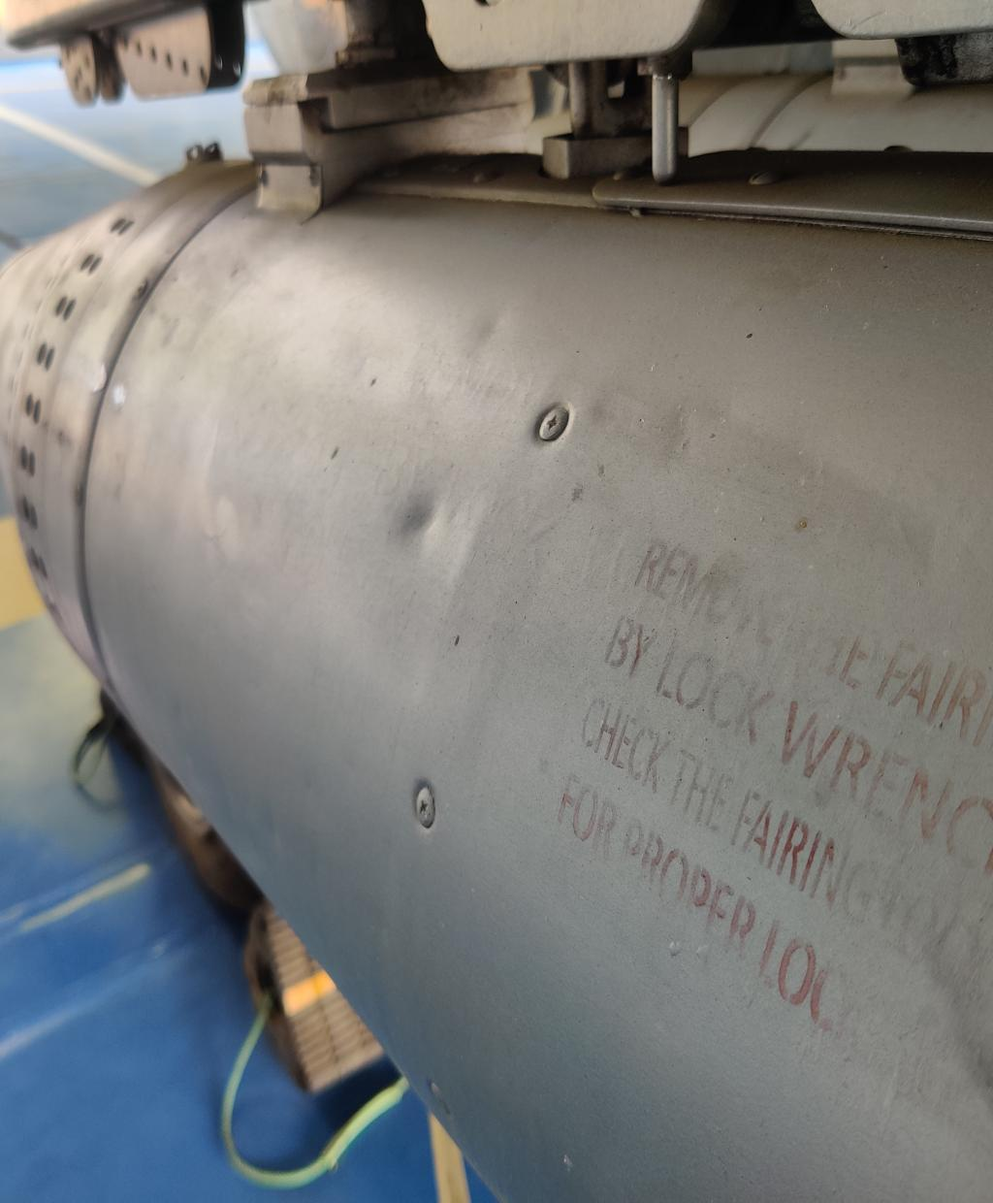dent: (374, 465, 464, 582)
